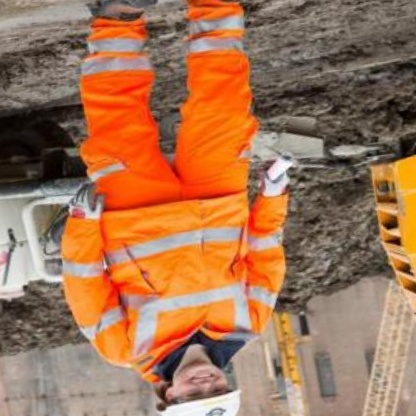vest: (40, 133, 328, 392)
white: (150, 381, 264, 416)
